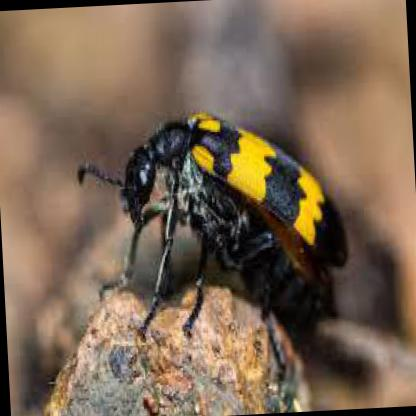blister beetle: (75, 106, 349, 357)
